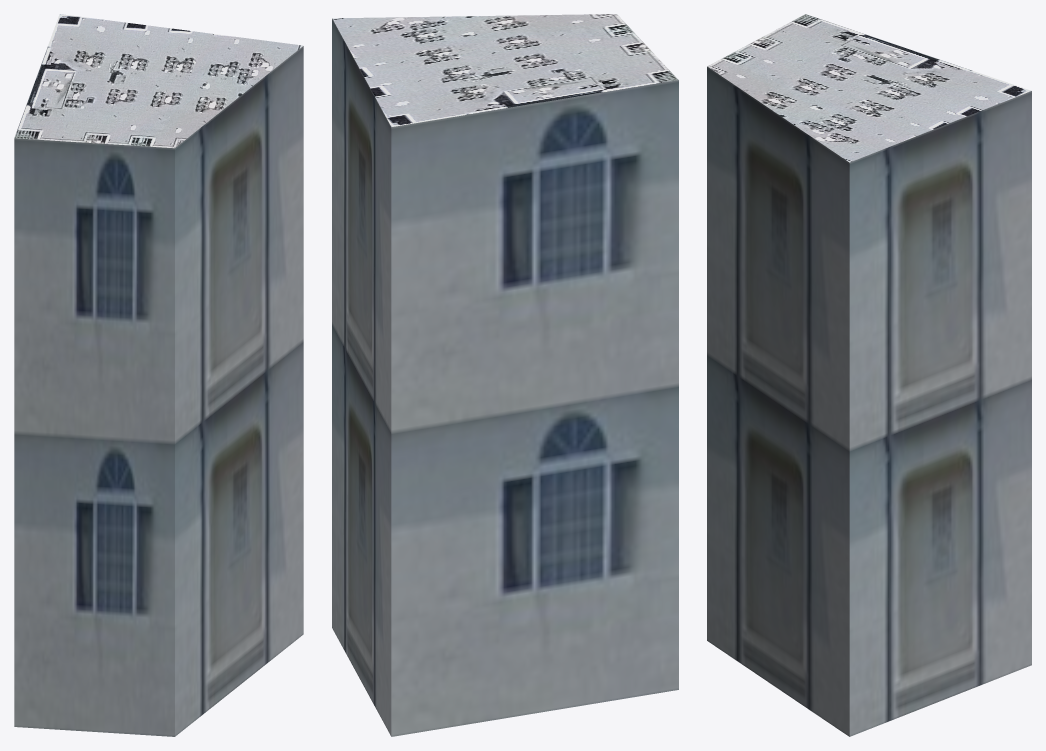
The model's file is ResTex__2873.fbx.
3 views of the same model, side by side, from view 1: azimuth 30°, elevation 25°; view 2: azimuth 150°, elevation 25°; view 3: azimuth 270°, elevation 25° (orthographic). The views are drawn at different scales.
Parts seen in each view (by area): view 1: CityEngineMaterial_17_m, CityEngineMaterial_4_m; view 2: CityEngineMaterial_17_m, CityEngineMaterial_4_m; view 3: CityEngineMaterial_17_m, CityEngineMaterial_4_m.
Part boxes in pixels (left/top/right/bottom): CityEngineMaterial_17_m: left=14, top=46, right=303, bottom=736; CityEngineMaterial_4_m: left=14, top=14, right=303, bottom=148; CityEngineMaterial_17_m: left=332, top=18, right=678, bottom=736; CityEngineMaterial_4_m: left=332, top=14, right=678, bottom=126; CityEngineMaterial_17_m: left=707, top=66, right=1031, bottom=736; CityEngineMaterial_4_m: left=707, top=14, right=1031, bottom=162.
Bounding box in the file's own units: 3.33 × 6 × 3.07.
2 materials, 2 textured.
